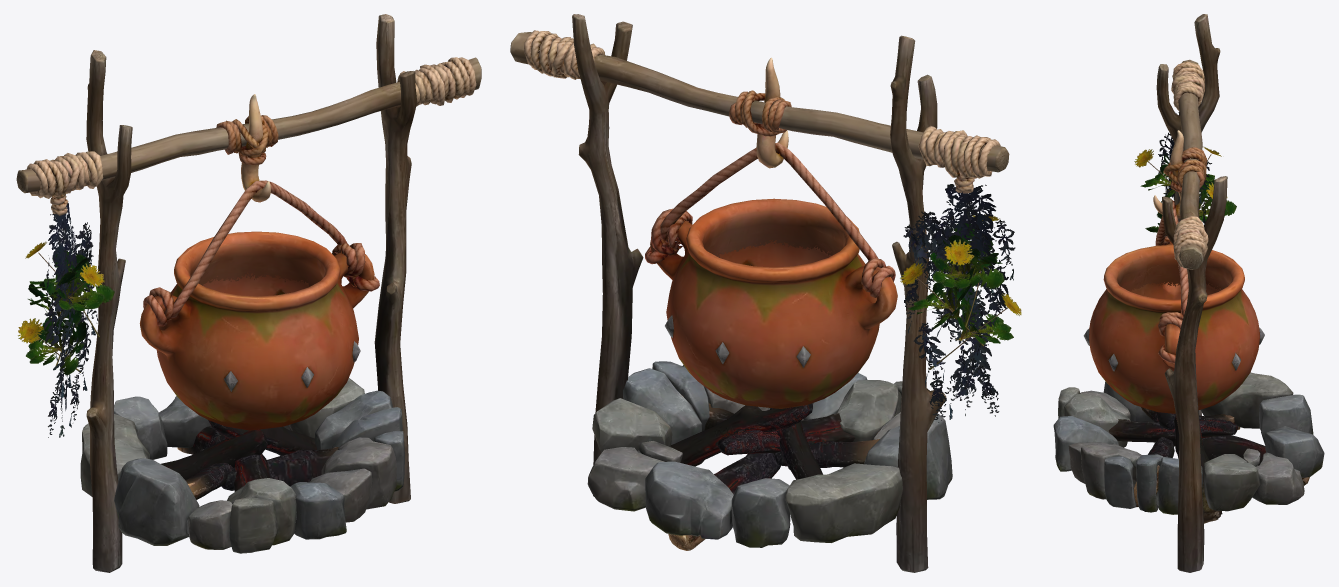
3 renders of one model, left to right at view 1: azimuth 30°, elevation 25°; view 2: azimuth 150°, elevation 25°; view 3: azimuth 270°, elevation 25°, orthographic. The views are drawn at different scales.
Parts seen in each view (by area): view 1: SM_Cauldron_Herblore_01_LOD0; view 2: SM_Cauldron_Herblore_01_LOD0; view 3: SM_Cauldron_Herblore_01_LOD0.
Boxes of the visible parts, x1,y1,x2,y2 form: SM_Cauldron_Herblore_01_LOD0: [16, 14, 481, 572]; SM_Cauldron_Herblore_01_LOD0: [510, 14, 1021, 572]; SM_Cauldron_Herblore_01_LOD0: [1053, 14, 1324, 572].
Bounding box in the file's own units: 1.88 × 1.96 × 1.11.
Materials: 2 (2 with a texture image).
